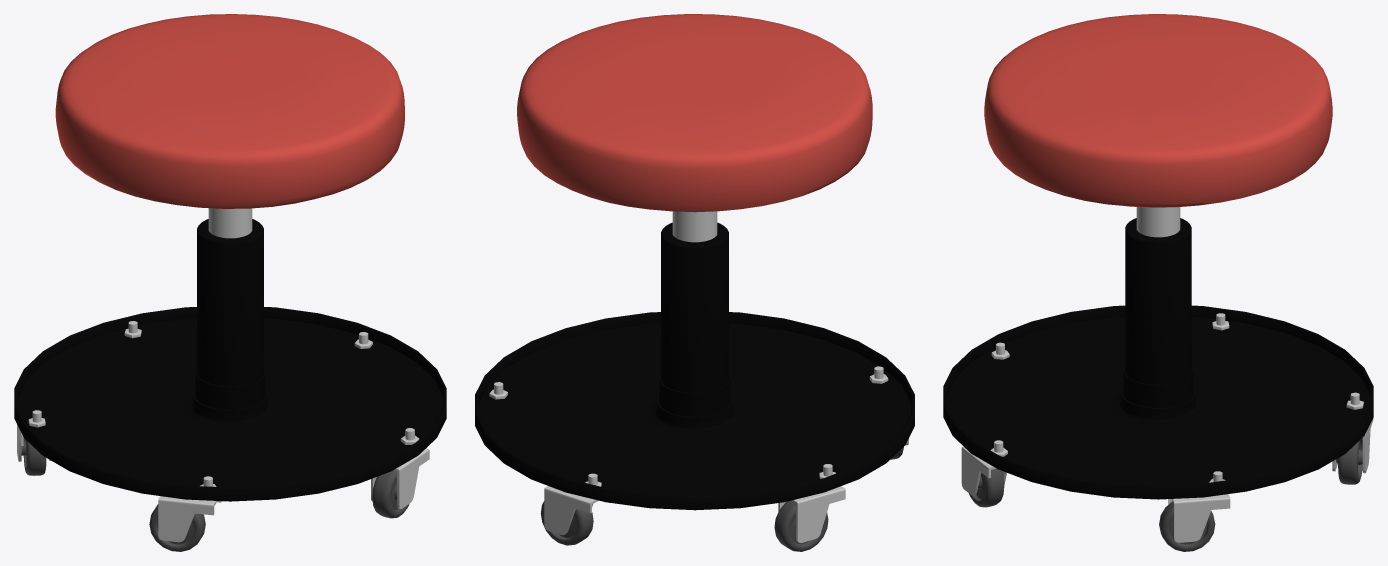
The model's file is Mechanic Seat.fbx.
3 views of the same model, side by side, from view 1: azimuth 30°, elevation 25°; view 2: azimuth 150°, elevation 25°; view 3: azimuth 270°, elevation 25° (orthographic). The views are drawn at different scales.
Visible parts, largest first — view 1: BlackSteel, Seat, BareSteel, Wheels; view 2: BlackSteel, Seat, BareSteel, Wheels; view 3: BlackSteel, Seat, BareSteel, Wheels.
Part boxes in pixels (x1,y1,x2,y2): BlackSteel: (14,219,446,501); Seat: (55,14,404,208); BareSteel: (17,208,429,542); Wheels: (21,438,409,551); BlackSteel: (475,222,914,510); Seat: (517,14,872,212); BareSteel: (489,211,908,542); Wheels: (540,447,903,551); BlackSteel: (943,218,1373,499); Seat: (984,14,1332,207); BareSteel: (961,207,1373,542); Wheels: (969,438,1362,551).
Bounding box in the file's own units: 38 × 37.79 × 37.79.
